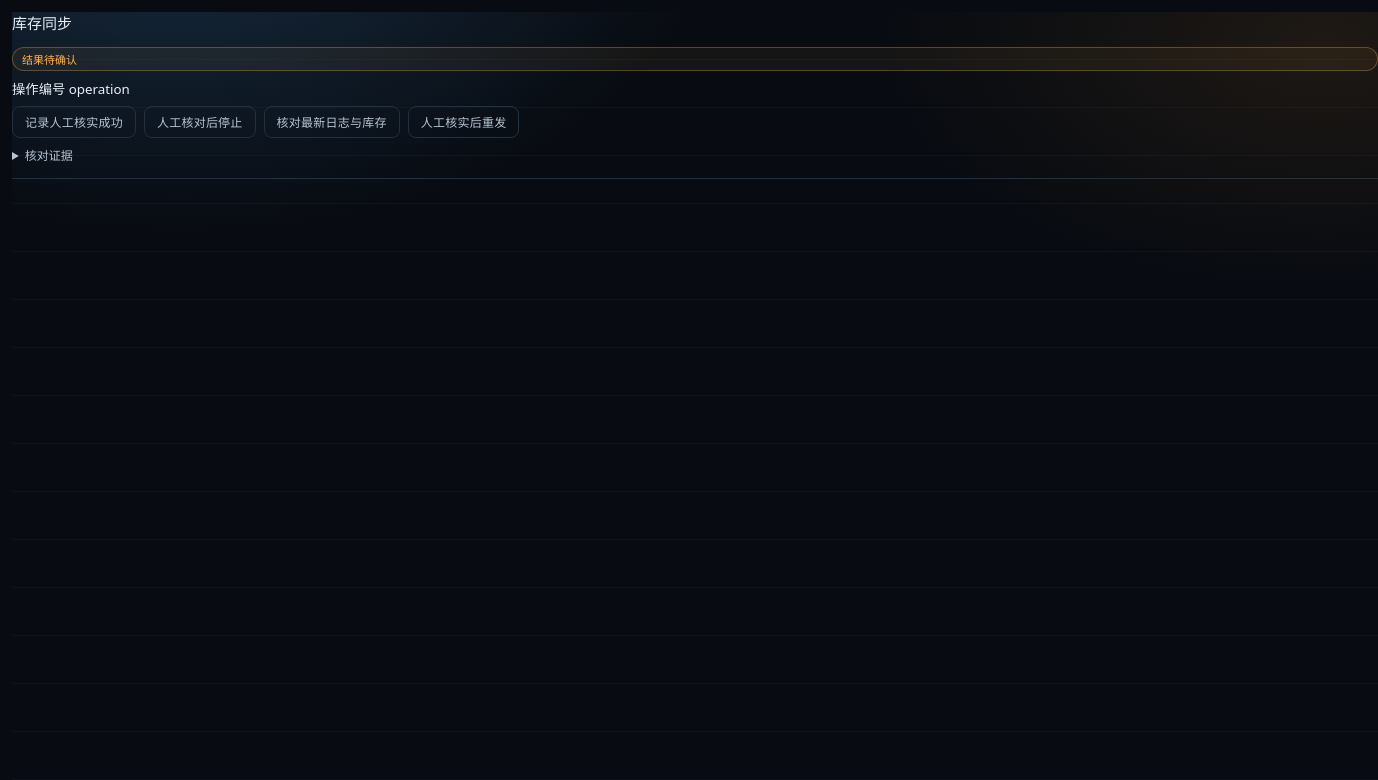
Test: 记录人工核实成功 输入不足时明确提示，而不是静默退出
What coordinates should you click on to do the following:
click the button "记录人工核实成功"
I would click on:
 (74, 122)
Its box is [12,106,136,138].
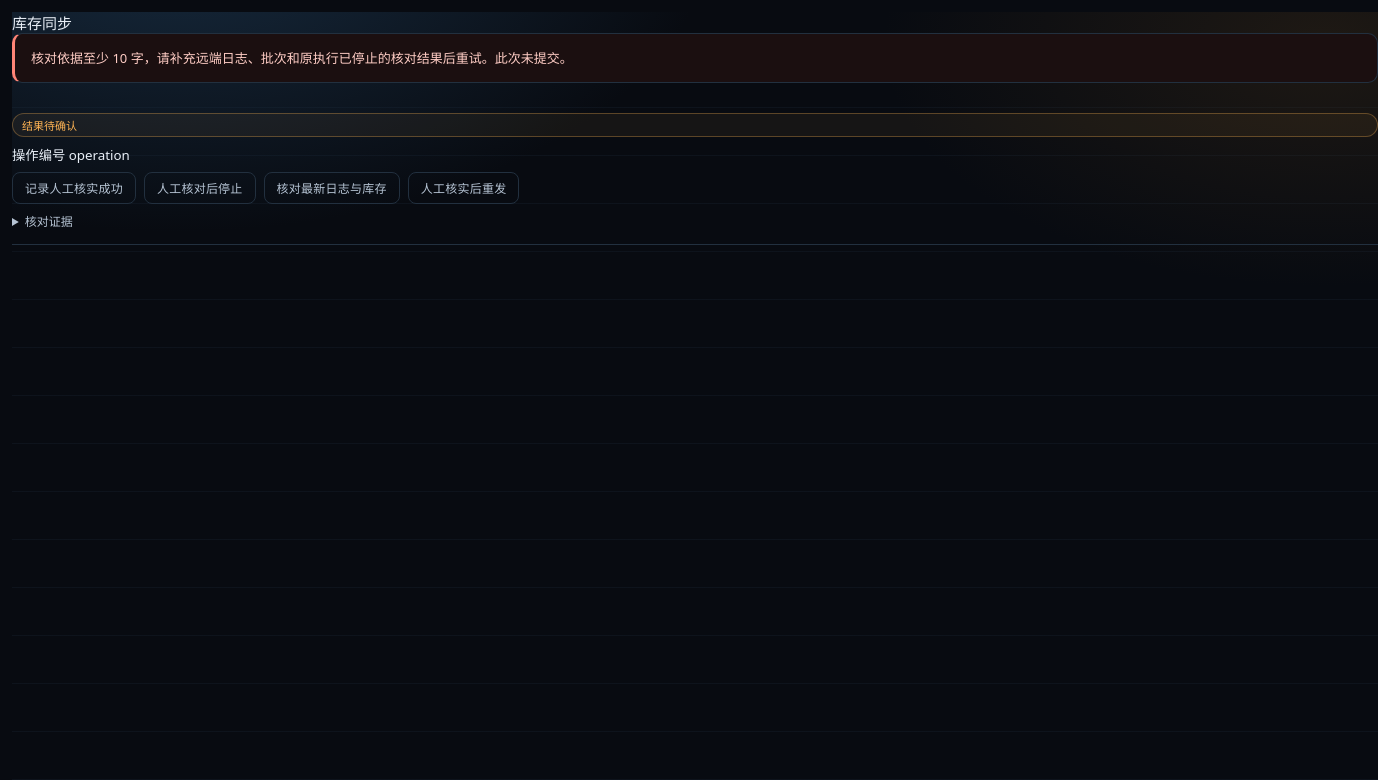
Check: the message shows "至少 10 字", box [31,49,573,67]
